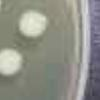white: (0, 47, 27, 80), (18, 10, 49, 38)
